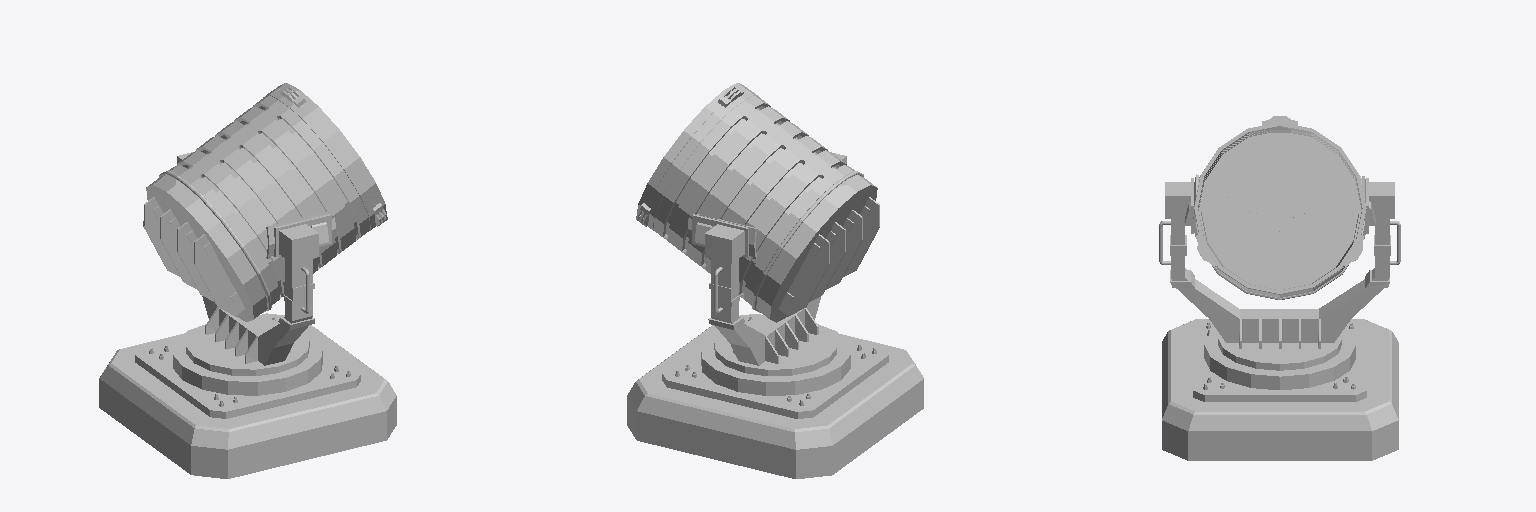
File: batiSenal.obj
3 renders of one model, left to right at view 1: azimuth 30°, elevation 25°; view 2: azimuth 150°, elevation 25°; view 3: azimuth 270°, elevation 25°, orthographic.
Parts seen in each view (by area): view 1: Cube, Cylinder_001, Cube_001, Cylinder, Cube_013, Cylinder_002; view 2: Cube, Cylinder_001, Cube_001, Cylinder, Cube_013, Cylinder_002; view 3: Cube, Cylinder_002, Cube_001, Cylinder, Cylinder_001, Plane, Cylinder_004.
Part boxes in pixels (x1,y1,x2,y2): Cube: (99,313,396,478); Cylinder_001: (146,83,386,321); Cube_001: (177,152,331,365); Cylinder: (173,318,322,395); Cube_013: (143,197,244,316); Cylinder_002: (187,108,357,292); Cube: (627,314,923,478); Cylinder_001: (637,83,877,322); Cube_001: (692,152,846,365); Cylinder: (701,318,850,395); Cube_013: (779,197,879,316); Cylinder_002: (666,108,836,292); Cube: (1162,319,1398,460); Cylinder_002: (1201,133,1358,289); Cube_001: (1165,178,1394,348); Cylinder: (1204,329,1355,389); Cylinder_001: (1194,122,1366,299); Plane: (1210,184,1349,233); Cylinder_004: (1196,116,1364,266).
Size of the model in its own units: 8.87 by 12.15 by 8.4.